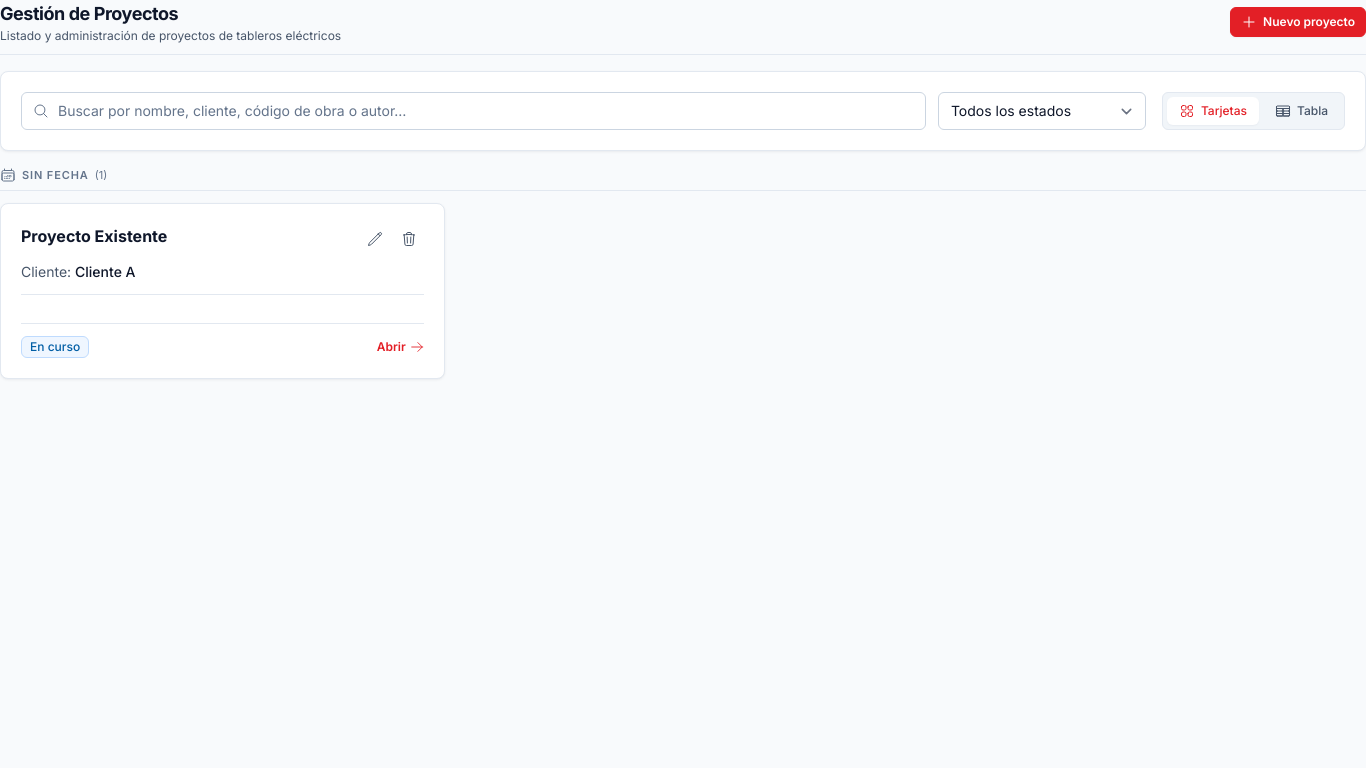
Test: ProyectosPage › shows the backend's actual error message when creating a proyecto fails
The image size is (1366, 768).
Expected: the link "Proyecto Existente" is shown, [21,224,167,248]
Click the button "Nuevo proyecto".
click(1298, 22)  # box [1230,7,1365,37]
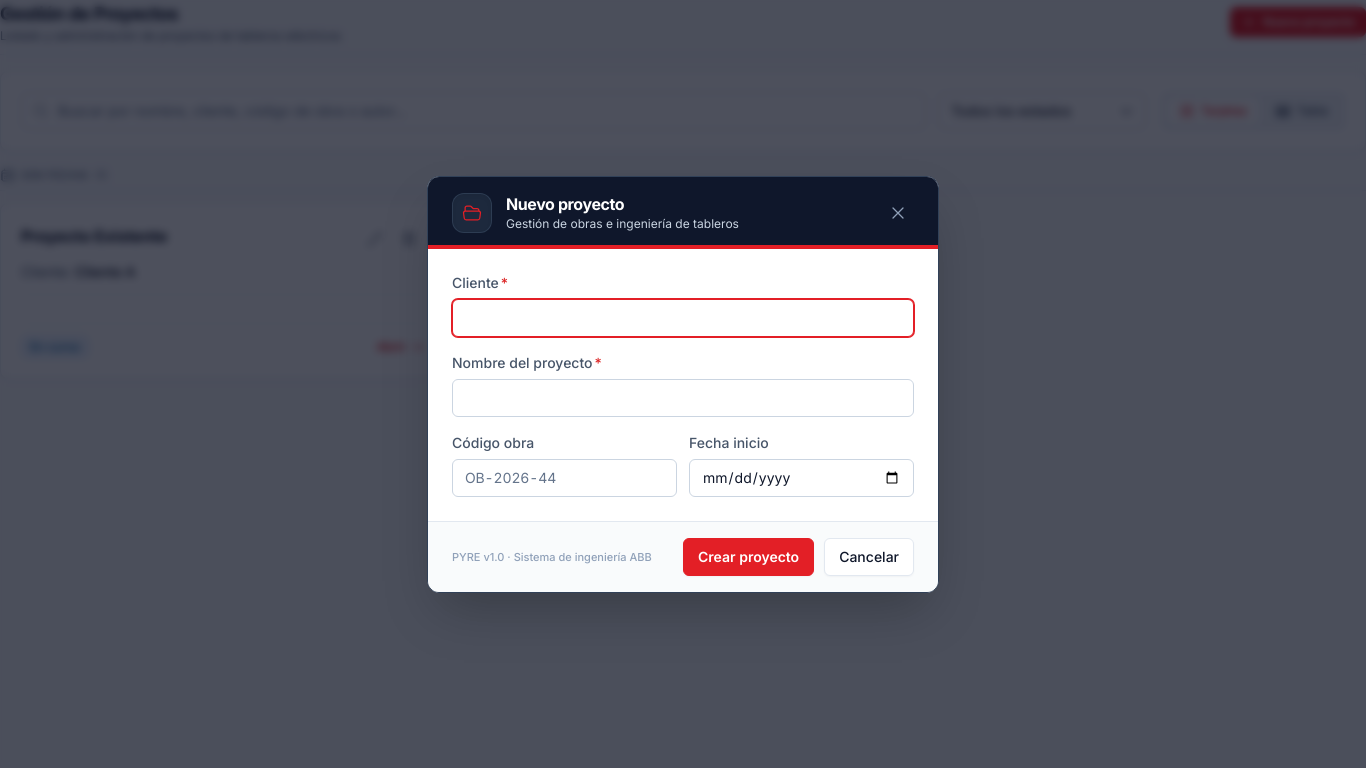
Type "Proyecto Nuevo" into the field labelled "Nombre del proyecto*".
click(683, 398); type("Proyecto Nuevo")  # box [452,378,914,416]
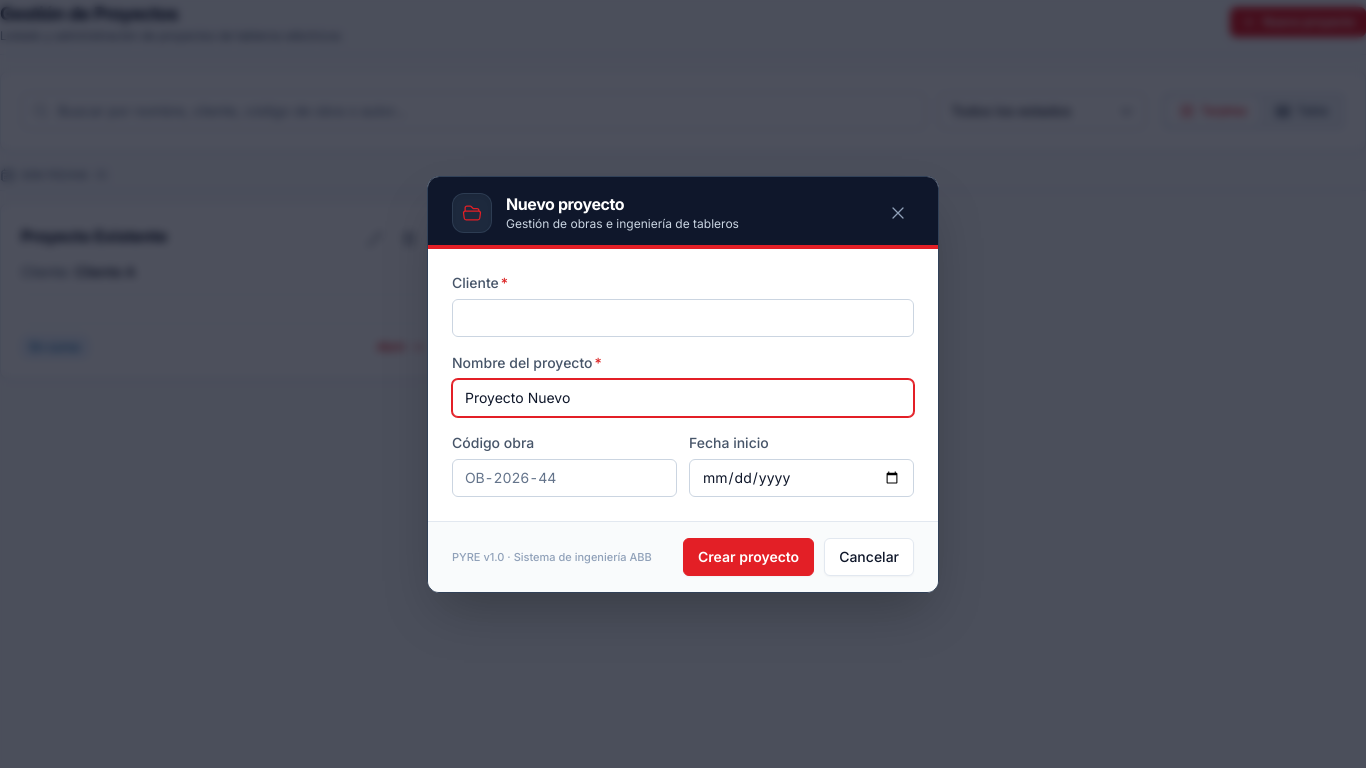
Click the button "Crear proyecto".
click(749, 556)  # box [683,538,814,576]
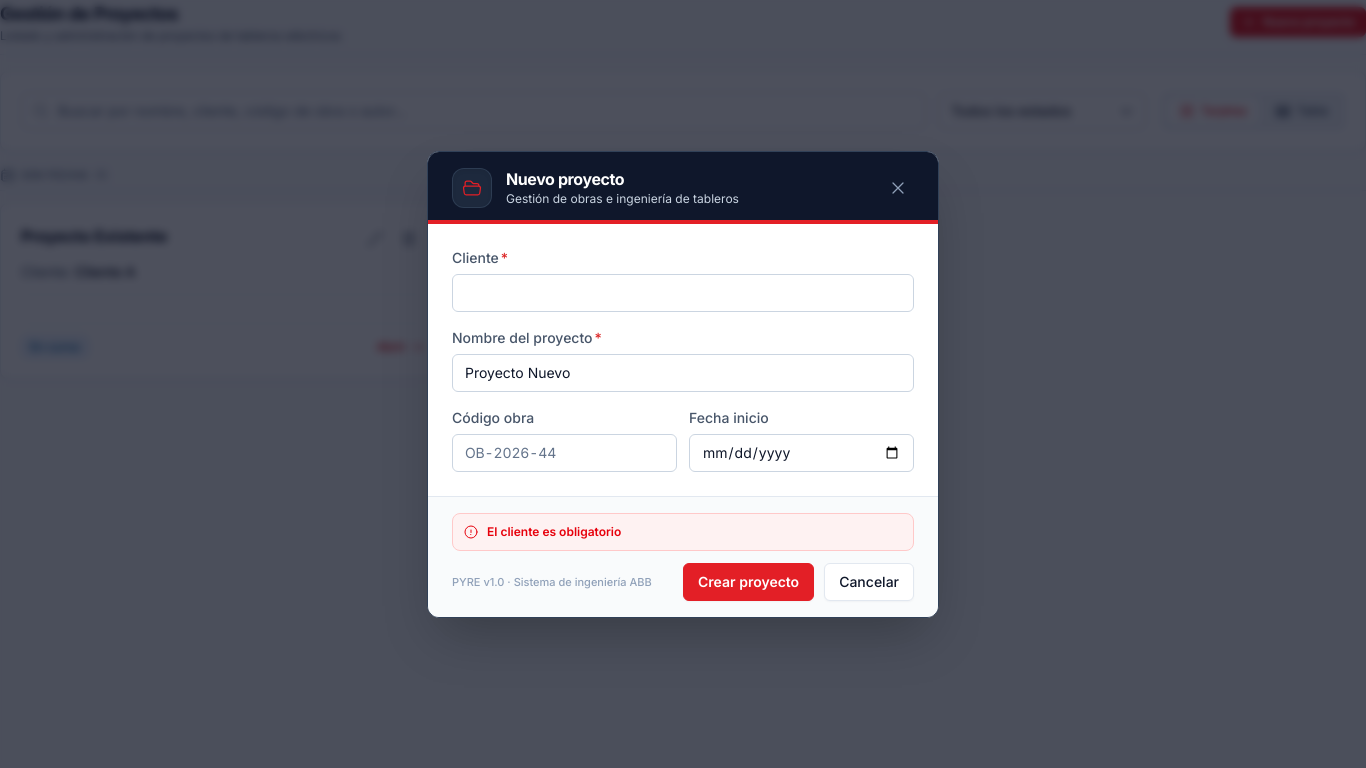
Now the text "El cliente es obligatorio" is shown, box [487,524,621,540]
